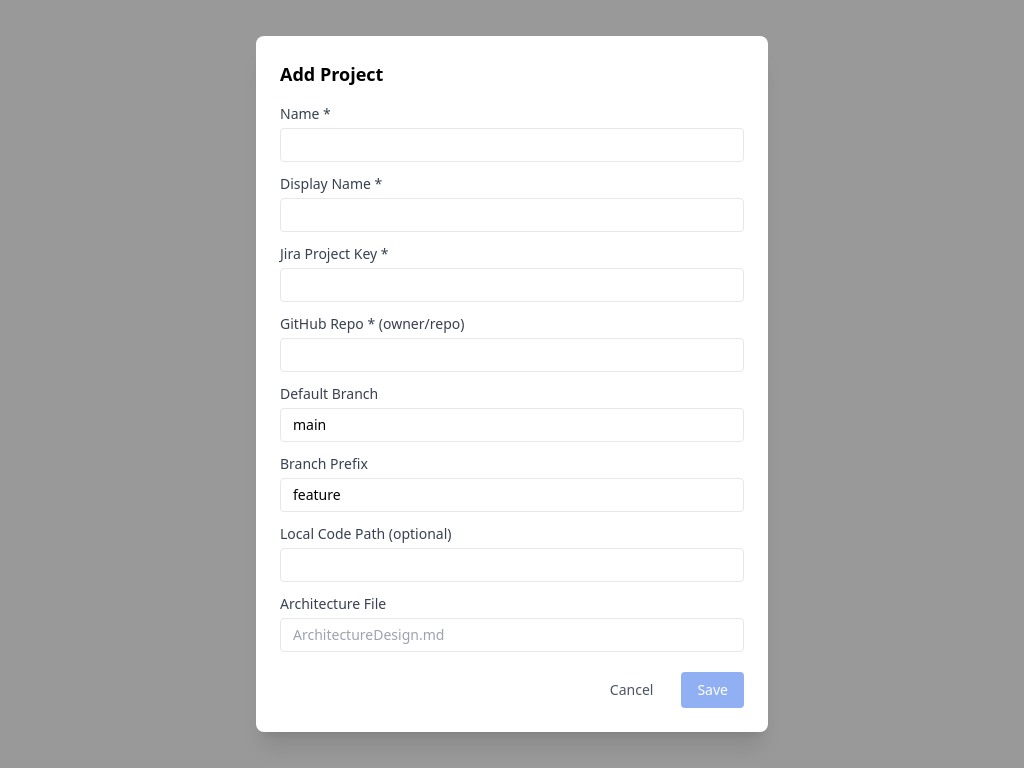
Test: ProjectModal — add mode › shows inline slug error for uppercase name (AC-5)
Type "MyProject" into the field labelled "Name *" at (512, 145), box [280,128,744,162]
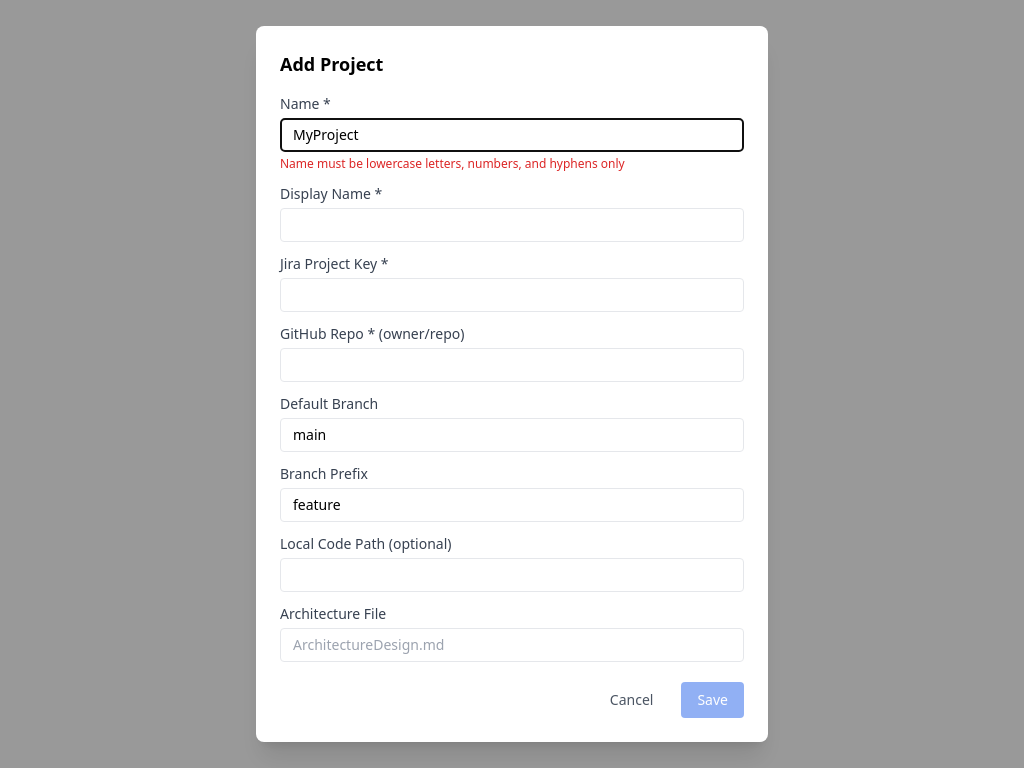
Now the text "Name must be lowercase letters, numbers, and hyphens only" is shown, box [280,155,625,172]
